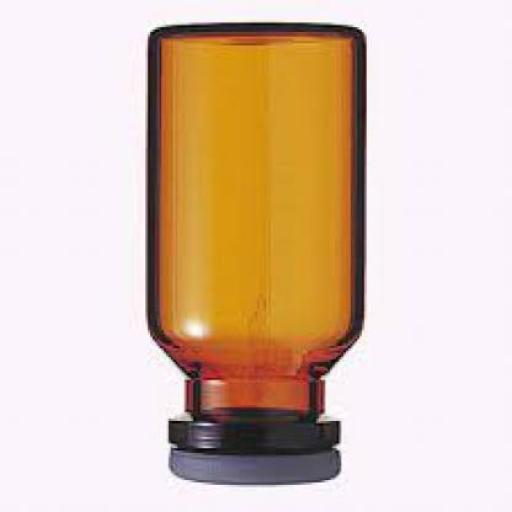glass: (148, 27, 369, 426)
plastic: (171, 418, 343, 488)
